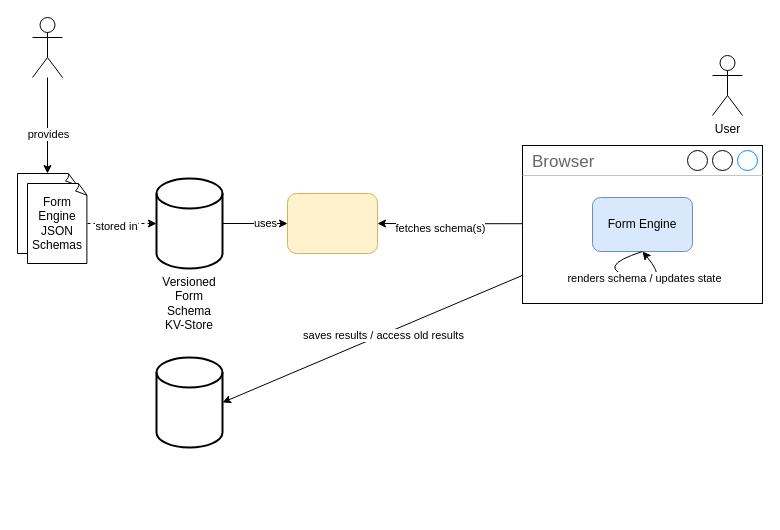
Some shapes in this 780 by 530 pixel diagram are drawn without their labels. The centre of each missing label's shape, as x and y in pixels:
"Developer" belongs at point (47, 47).
"Form Engine Result Store" belongs at point (189, 402).
"Form Schema OData Service" belongs at point (332, 223).
